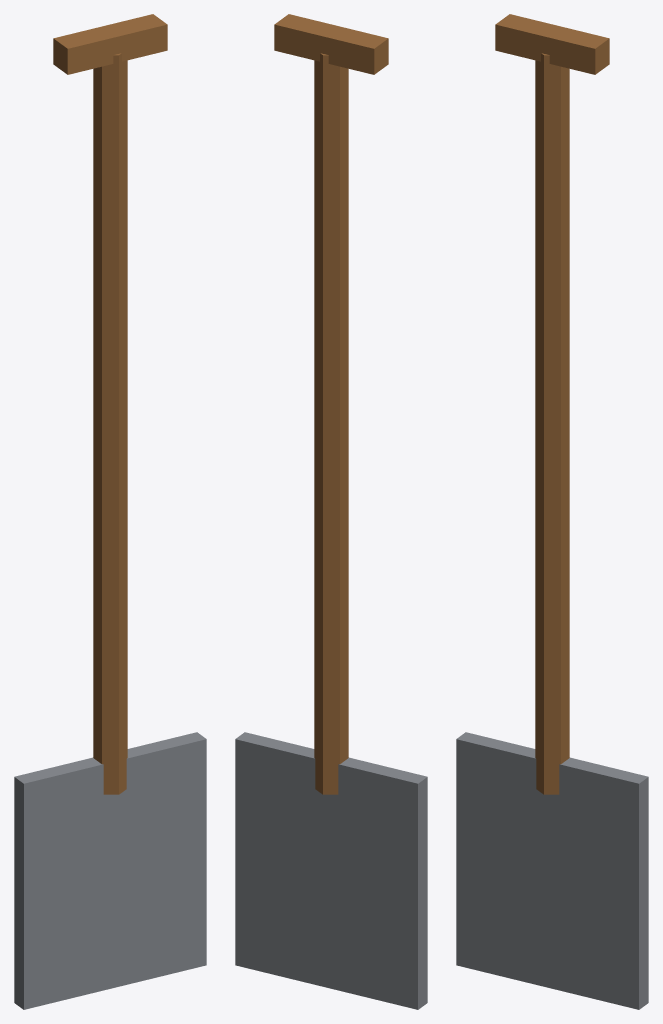
The model's file is shovel.glb.
The picture shows the model from 3 angles, left to right: view 1: azimuth 30°, elevation 25°; view 2: azimuth 150°, elevation 25°; view 3: azimuth 330°, elevation 25°; orthographic projection.
Visible parts, largest first — view 1: blade_blade_steel, handle_handle_wood; view 2: blade_blade_steel, handle_handle_wood; view 3: blade_blade_steel, handle_handle_wood.
Boxes of the visible parts, box(x1,y1,x2,y2) form: blade_blade_steel: box(14, 732, 206, 1009); handle_handle_wood: box(53, 14, 167, 794); blade_blade_steel: box(235, 732, 427, 1009); handle_handle_wood: box(274, 14, 388, 794); blade_blade_steel: box(456, 732, 648, 1009); handle_handle_wood: box(495, 14, 609, 794).
Bounding box in the file's own units: 0.22 × 1.1 × 0.036.
